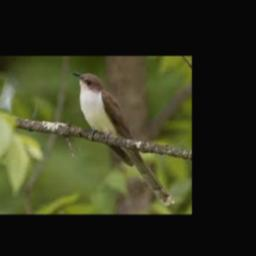Cuckoo: (72, 72, 175, 206)
